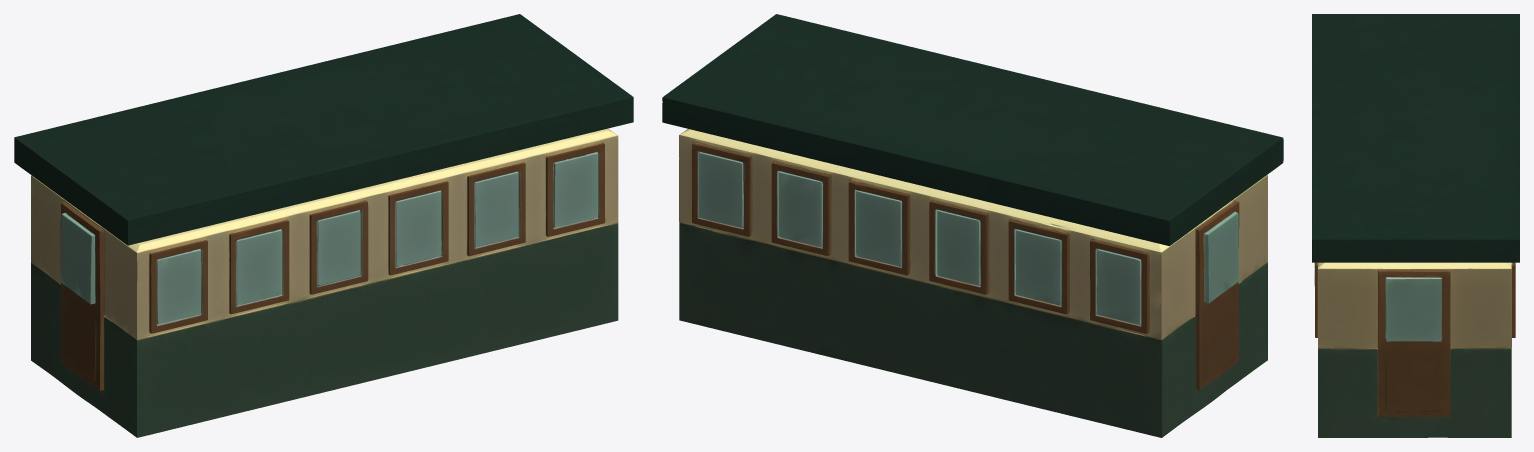
The picture shows the model from 3 angles, left to right: view 1: azimuth 30°, elevation 25°; view 2: azimuth 150°, elevation 25°; view 3: azimuth 270°, elevation 25°; orthographic projection. The views are drawn at different scales.
Visible parts, largest first — view 1: model; view 2: model; view 3: model.
Part boxes in pixels (bbox=[...]): model: bbox=[14, 14, 633, 437]; model: bbox=[662, 14, 1283, 437]; model: bbox=[1312, 14, 1519, 437].
Size of the model in its own units: 1.9 by 0.8013 by 0.741.
Materials: 1 (1 with a texture image).
